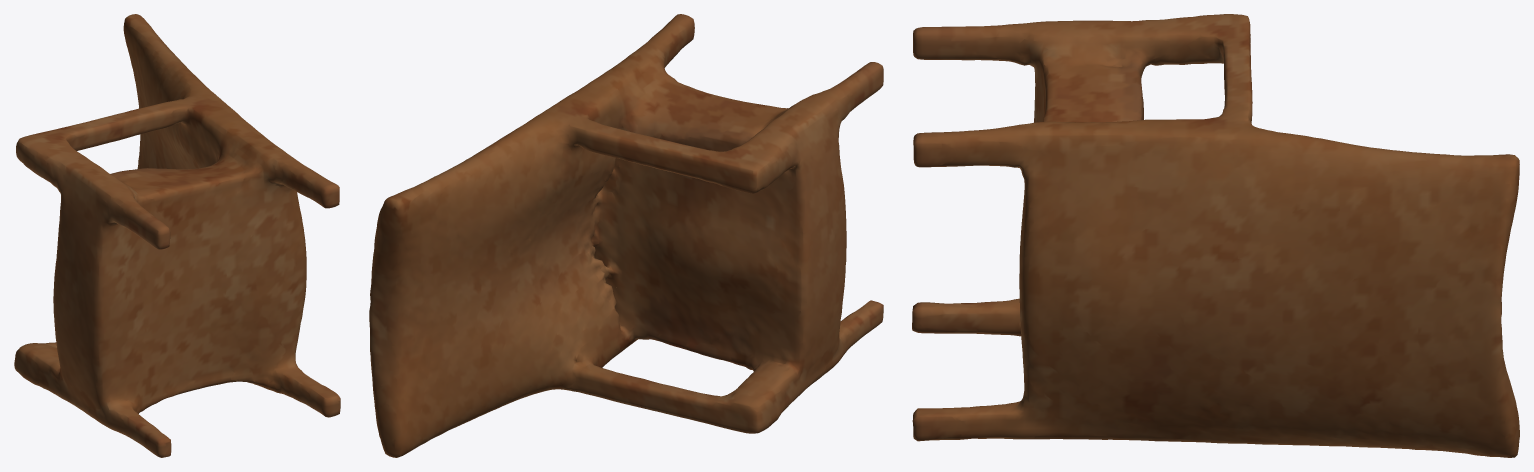
The model's file is A four-legged chair with a square base and a comfo.glb.
The picture shows the model from 3 angles, left to right: view 1: azimuth 30°, elevation 25°; view 2: azimuth 150°, elevation 25°; view 3: azimuth 270°, elevation 25°; orthographic projection. The views are drawn at different scales.
Parts seen in each view (by area): view 1: A four-legged chair with a square base and a comfo; view 2: A four-legged chair with a square base and a comfo; view 3: A four-legged chair with a square base and a comfo.
Part boxes in pixels (bbox=[...]): A four-legged chair with a square base and a comfo: bbox=[14, 14, 340, 457]; A four-legged chair with a square base and a comfo: bbox=[369, 14, 883, 457]; A four-legged chair with a square base and a comfo: bbox=[912, 14, 1519, 457].
Bounding box in the file's own units: 0.6263 × 0.5649 × 1.01.
